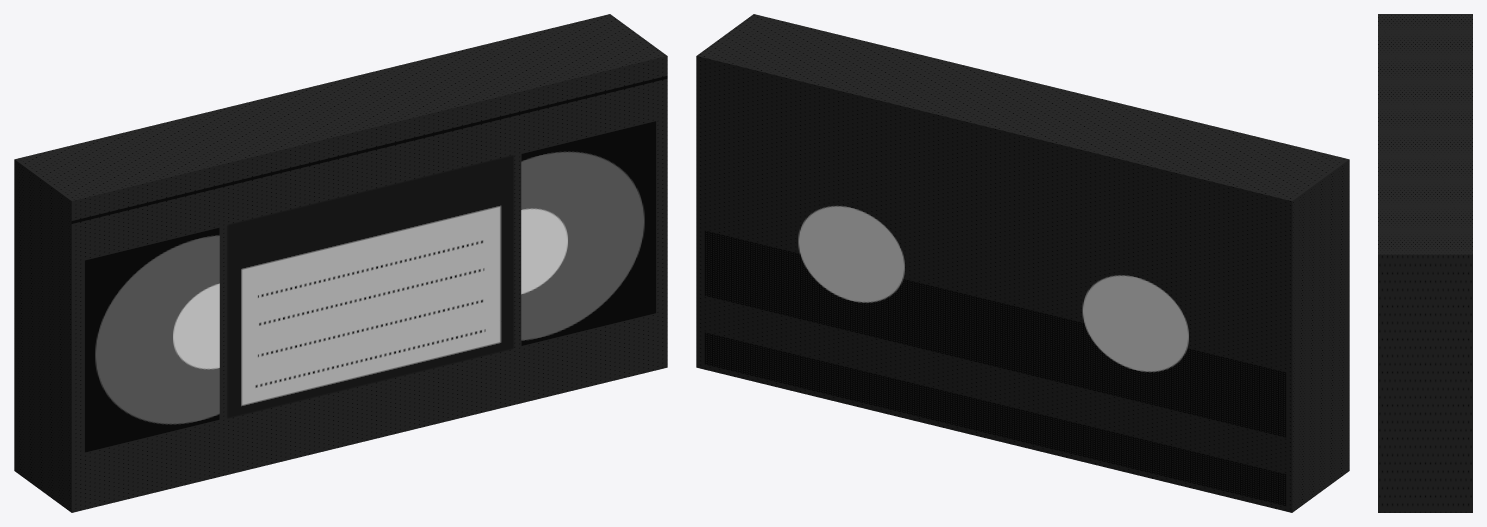
The model's file is vhs.fbx.
The picture shows the model from 3 angles, left to right: view 1: azimuth 30°, elevation 25°; view 2: azimuth 150°, elevation 25°; view 3: azimuth 270°, elevation 25°; orthographic projection. The views are drawn at different scales.
Parts seen in each view (by area): view 1: VHS -col; view 2: VHS -col; view 3: VHS -col.
Boxes of the visible parts, x1,y1,x2,y2 form: VHS -col: [14, 14, 667, 512]; VHS -col: [696, 14, 1349, 512]; VHS -col: [1378, 14, 1472, 512].
Size of the model in its own units: 200 by 100 by 33.33.
2 materials, 2 textured.
